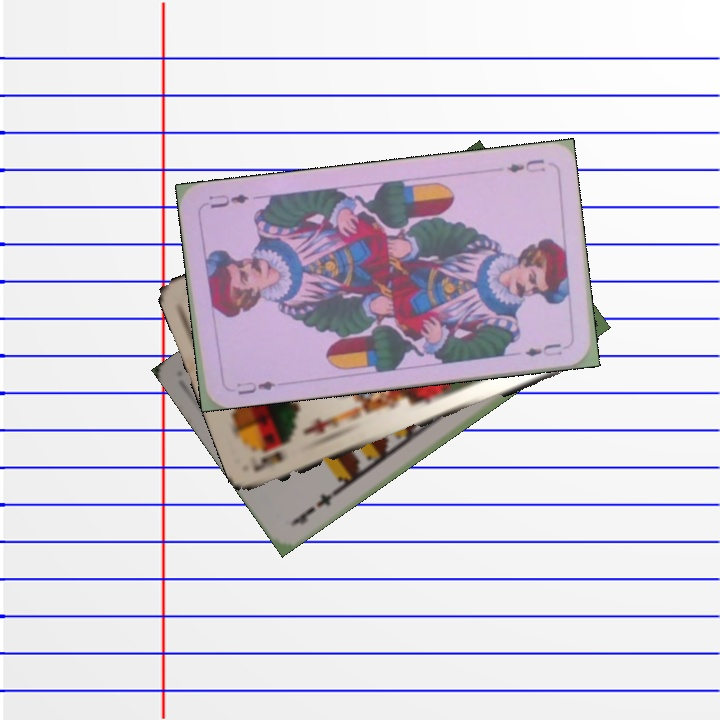E7: (288, 485, 341, 528)
EU: (224, 377, 278, 398), (503, 155, 548, 175)
SK: (249, 447, 287, 475)
